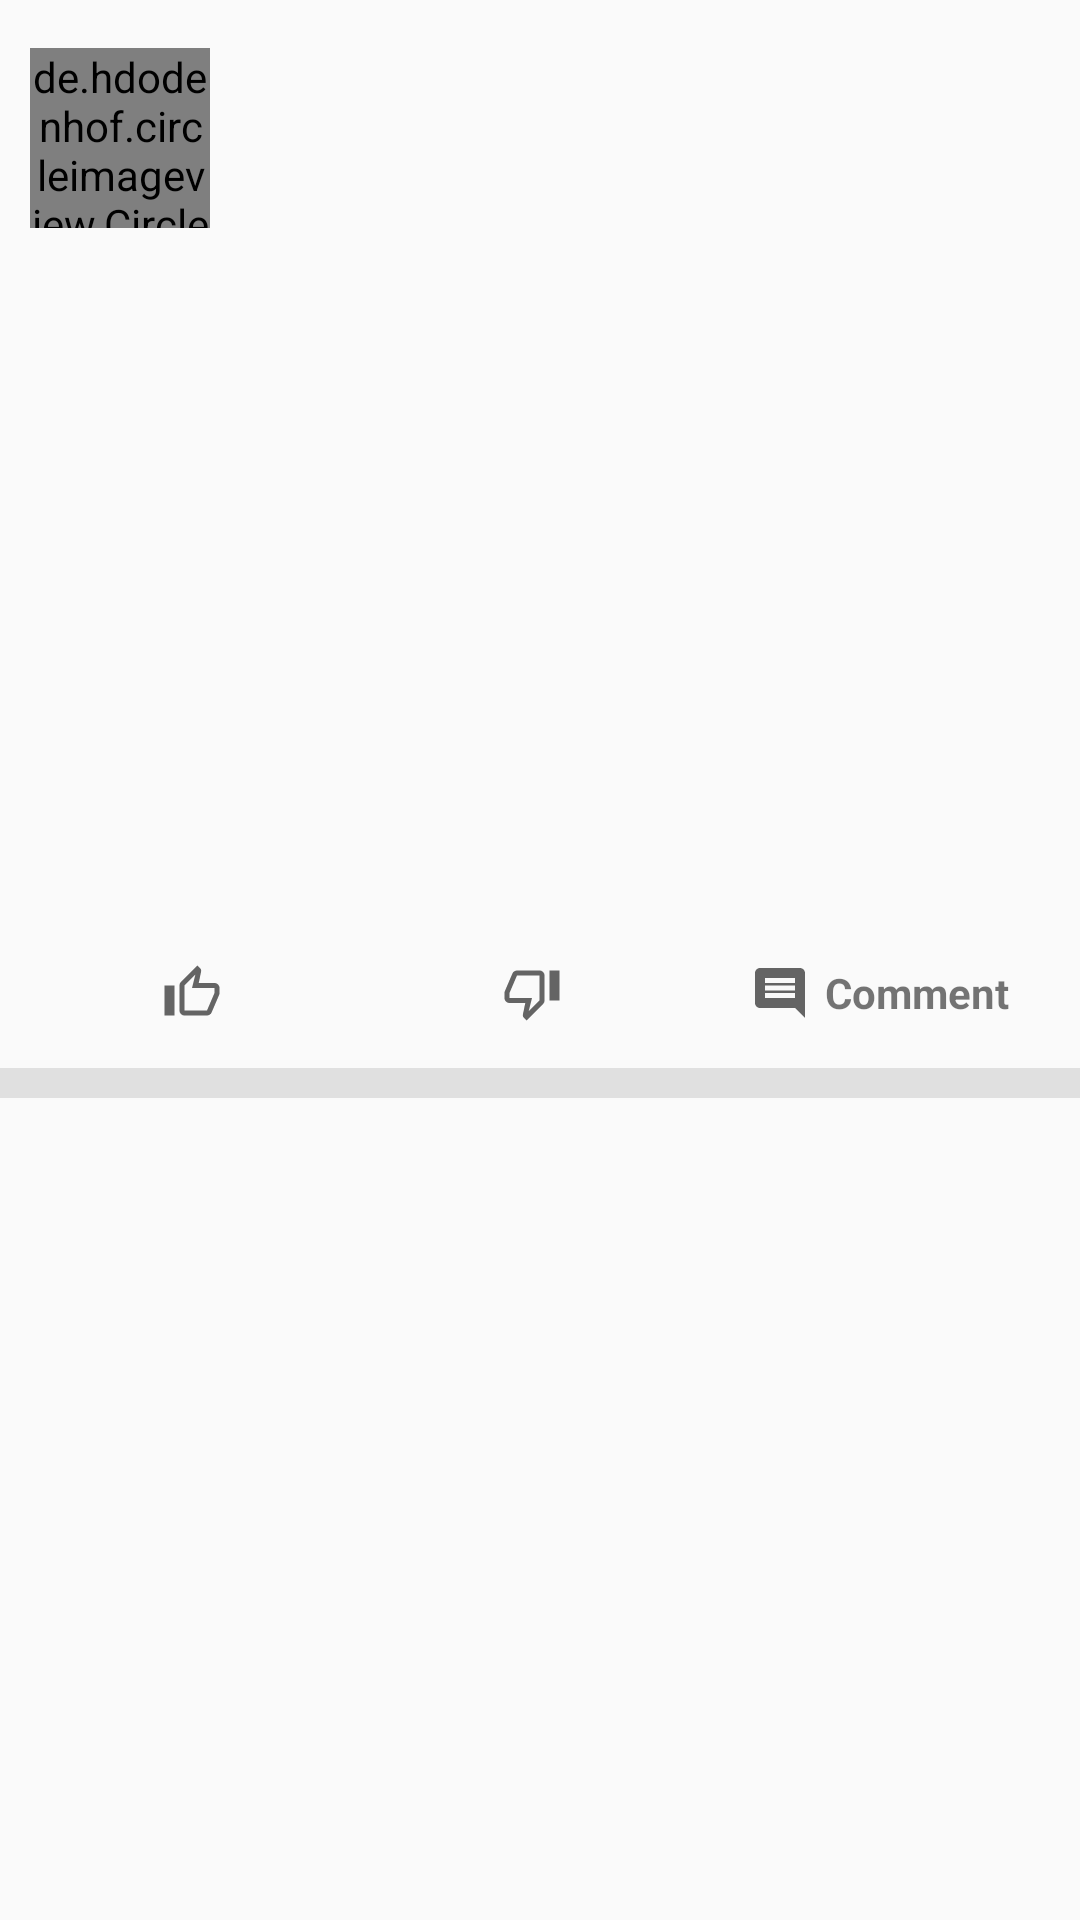

Icons on this 1080x1920 Android screen, each with its box as {"x1": x1, "y1": y1, "x2": x2, "y2": y2}:
thumb down: {"x1": 504, "y1": 970, "x2": 560, "y2": 1021}
thumb up: {"x1": 164, "y1": 965, "x2": 220, "y2": 1016}
